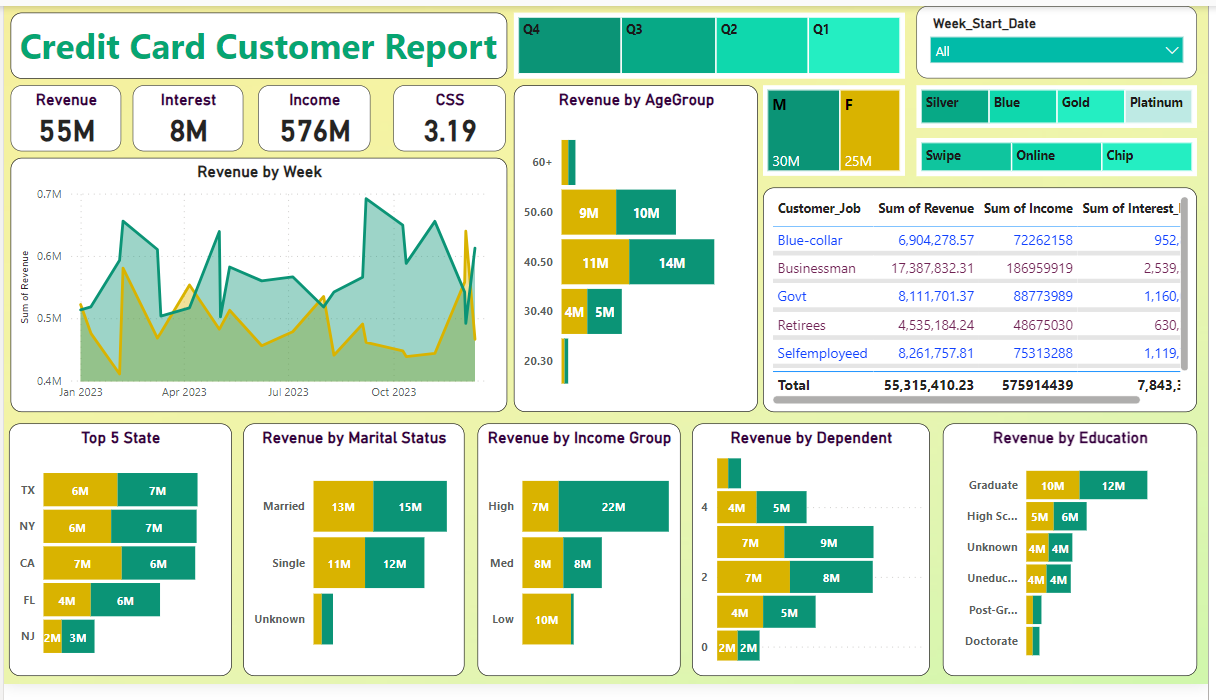

What the dashboard file says about the page in this screenshot:
{"tool":"powerbi","page":{"name":"cc-customer","canvas":[1280,720],"ordinal":1},"visuals":[{"type":"tableEx","fields":{"Values":["customer.Customer_Job","Sum(credit_card.Revenue)","Sum(customer.Income)","Sum(credit_card.Interest_Earned)"]},"box":[806.8,192.9,461.3,238.5],"z":0},{"type":"card","title":"Income","fields":{"Values":["Sum(customer.Income)"]},"box":[270.1,84.2,119.3,70.2],"z":1000},{"type":"card","title":"CSS","fields":{"Values":["Avg(customer.Cust_Satisfaction_Score)"]},"box":[413.9,84.2,119.3,70.2],"z":2000},{"type":"slicer","fields":{"Values":["credit_card.Week_Start_Date"]},"box":[969.9,0,298.2,77.2],"z":3000},{"type":"treemap","fields":{"Group":["credit_card.Qtr"],"Values":["Avg(credit_card.Client_Num)"]},"box":[541.9,7,415.7,70.2],"z":4000},{"type":"textbox","box":[7,7,527.9,70.2],"z":5000},{"type":"card","title":"Revenue","fields":{"Values":["Sum(credit_card.Revenue)"]},"box":[7,84.2,117.5,70.2],"z":6000},{"type":"treemap","fields":{"Group":["credit_card.Card_Category"],"Values":["Avg(credit_card.Client_Num)"]},"box":[969.9,84.2,298.2,45.6],"z":7000},{"type":"card","title":"Interest ","fields":{"Values":["Sum(credit_card.Interest_Earned)"]},"box":[136.8,84.2,117.5,70.2],"z":8000},{"type":"areaChart","title":"Revenue by Week ","fields":{"Category":["credit_card.Week_Start_Date.Variation.Date Hierarchy.Year","credit_card.Week_Start_Date.Variation.Date Hierarchy.Month","credit_card.Week_Start_Date.Variation.Date Hierarchy.Day"],"Y":["Sum(credit_card.Revenue)"],"Series":["customer.Gender"]},"box":[7,161.4,527.9,270.1],"z":9000},{"type":"treemap","fields":{"Group":["customer.Gender"],"Values":["Sum(credit_card.Revenue)"]},"box":[806.8,84.2,150.8,96.5],"z":10000},{"type":"barChart","title":"Revenue by Income Group","fields":{"Category":["customer.IncomeGroup"],"Y":["Sum(credit_card.Revenue)"],"Series":["customer.Gender"]},"box":[503.4,443.7,215.7,268.3],"z":11000},{"type":"barChart","title":"Revenue by AgeGroup   ","fields":{"Category":["customer.AgeGroup"],"Y":["Sum(credit_card.Revenue)"],"Series":["customer.Gender"]},"box":[541.9,84.2,259.6,347.3],"z":12000},{"type":"barChart","title":"Revenue by Dependent","fields":{"Category":["customer.Dependent_Count"],"Y":["Sum(credit_card.Revenue)"],"Series":["customer.Gender"]},"box":[731.4,443.7,252.6,268.3],"z":13000},{"type":"barChart","title":"Revenue by Education ","fields":{"Category":["customer.Education_Level"],"Y":["Sum(credit_card.Revenue)"],"Series":["customer.Gender"]},"box":[998,443.7,270.1,268.3],"z":14000},{"type":"barChart","title":"Top 5 State ","fields":{"Category":["customer.state_cd"],"Y":["Sum(credit_card.Revenue)"],"Series":["customer.Gender"]},"box":[5.3,443.7,236.8,268.3],"z":15000},{"type":"barChart","title":"Revenue by Marital Status","fields":{"Category":["customer.Marital_Status"],"Y":["Sum(credit_card.Revenue)"],"Series":["customer.Gender"]},"box":[254.3,443.7,235,268.3],"z":16000},{"type":"treemap","fields":{"Group":["credit_card.Use Chip"],"Values":["Avg(credit_card.Client_Num)"]},"box":[969.9,140.3,298.2,40.3],"z":17000}]}

Visuals, with their boxes in screenshot pixels (x1, y1, x2, y2), scaled from the page's 1280x720 canvas onto the 1216x700 screenshot:
tableEx - customer.Customer_Job x Sum(credit_card.Revenue): BBox(766, 188, 1205, 419)
"Income" card: BBox(257, 82, 370, 150)
"CSS" card: BBox(393, 82, 507, 150)
slicer - credit_card.Week_Start_Date: BBox(921, 0, 1205, 75)
treemap - credit_card.Qtr x Avg(credit_card.Client_Num): BBox(515, 7, 910, 75)
textbox: BBox(7, 7, 508, 75)
"Revenue" card: BBox(7, 82, 118, 150)
treemap - credit_card.Card_Category x Avg(credit_card.Client_Num): BBox(921, 82, 1205, 126)
"Interest " card: BBox(130, 82, 242, 150)
"Revenue by Week " areaChart: BBox(7, 157, 508, 420)
treemap - customer.Gender x Sum(credit_card.Revenue): BBox(766, 82, 910, 176)
"Revenue by Income Group" barChart: BBox(478, 431, 683, 692)
"Revenue by AgeGroup   " barChart: BBox(515, 82, 761, 420)
"Revenue by Dependent" barChart: BBox(695, 431, 935, 692)
"Revenue by Education " barChart: BBox(948, 431, 1205, 692)
"Top 5 State " barChart: BBox(5, 431, 230, 692)
"Revenue by Marital Status" barChart: BBox(242, 431, 465, 692)
treemap - credit_card.Use Chip x Avg(credit_card.Client_Num): BBox(921, 136, 1205, 176)
